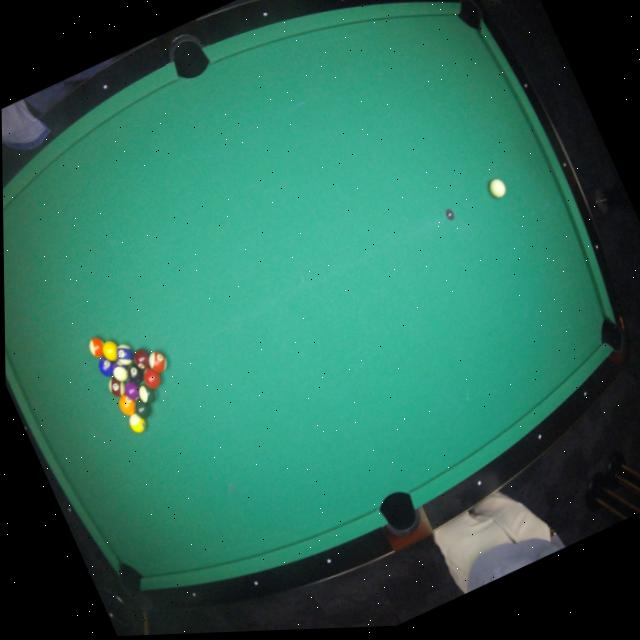cue ball: (484, 171, 511, 203)
other: (144, 345, 173, 377), (84, 333, 109, 361), (112, 340, 137, 368), (122, 358, 147, 386), (139, 364, 164, 392), (135, 380, 160, 407), (121, 376, 146, 403), (108, 357, 132, 385), (105, 373, 129, 400), (115, 391, 139, 418), (99, 336, 122, 364), (130, 345, 153, 373), (130, 394, 153, 421), (126, 410, 149, 436), (96, 353, 118, 380)
